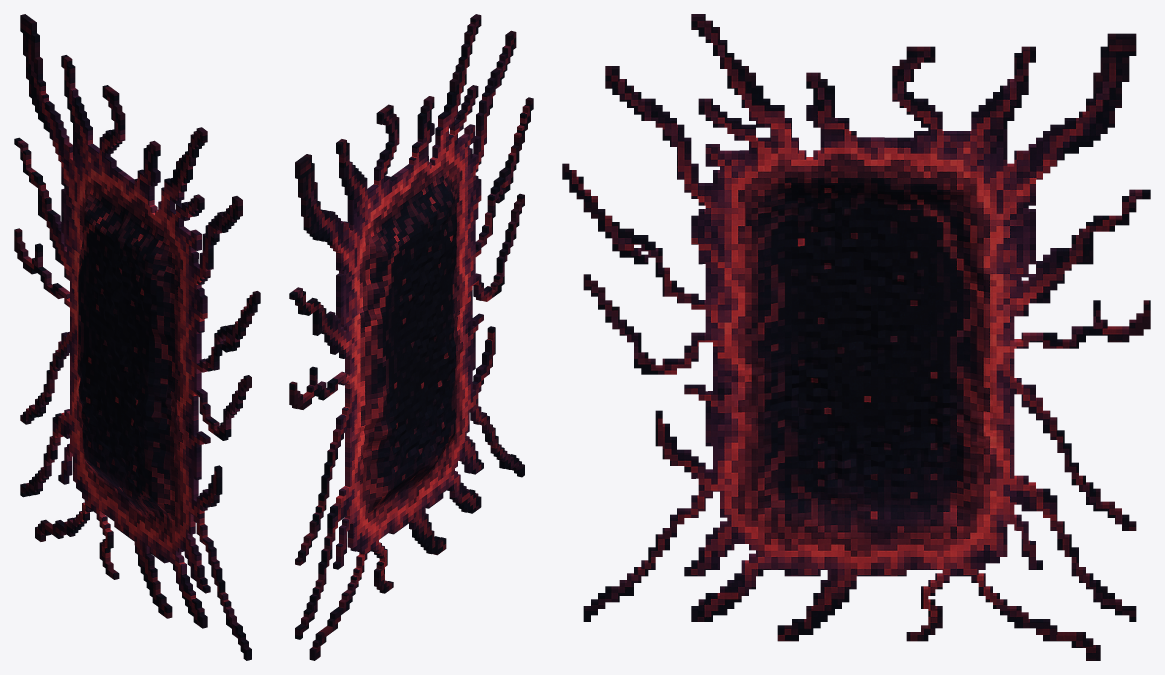
The model's file is Portal.fbx.
The picture shows the model from 3 angles, left to right: view 1: azimuth 30°, elevation 25°; view 2: azimuth 150°, elevation 25°; view 3: azimuth 270°, elevation 25°; orthographic projection. The views are drawn at different scales.
Parts seen in each view (by area): view 1: 10_05_2025, 16_33_28.002; view 2: 10_05_2025, 16_33_28.002; view 3: 10_05_2025, 16_33_28.002.
Boxes of the visible parts, x1,y1,x2,y2 form: 10_05_2025, 16_33_28.002: (14, 14, 260, 660); 10_05_2025, 16_33_28.002: (289, 14, 533, 660); 10_05_2025, 16_33_28.002: (562, 14, 1150, 660).
Size of the model in its own units: 3.4 by 77.34 by 64.06.
1 material, 1 textured.
